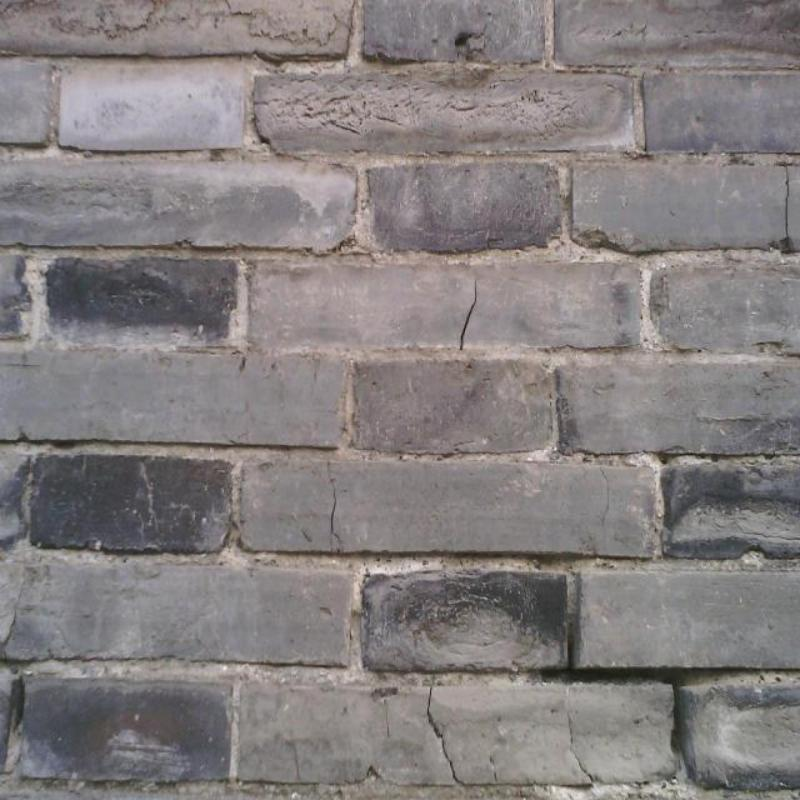crack: (542, 642, 759, 748), (427, 687, 467, 785), (769, 165, 795, 254), (568, 710, 596, 782), (3, 580, 26, 649), (328, 462, 347, 543), (459, 273, 478, 351), (600, 466, 609, 527), (15, 679, 25, 726), (455, 34, 470, 45)
